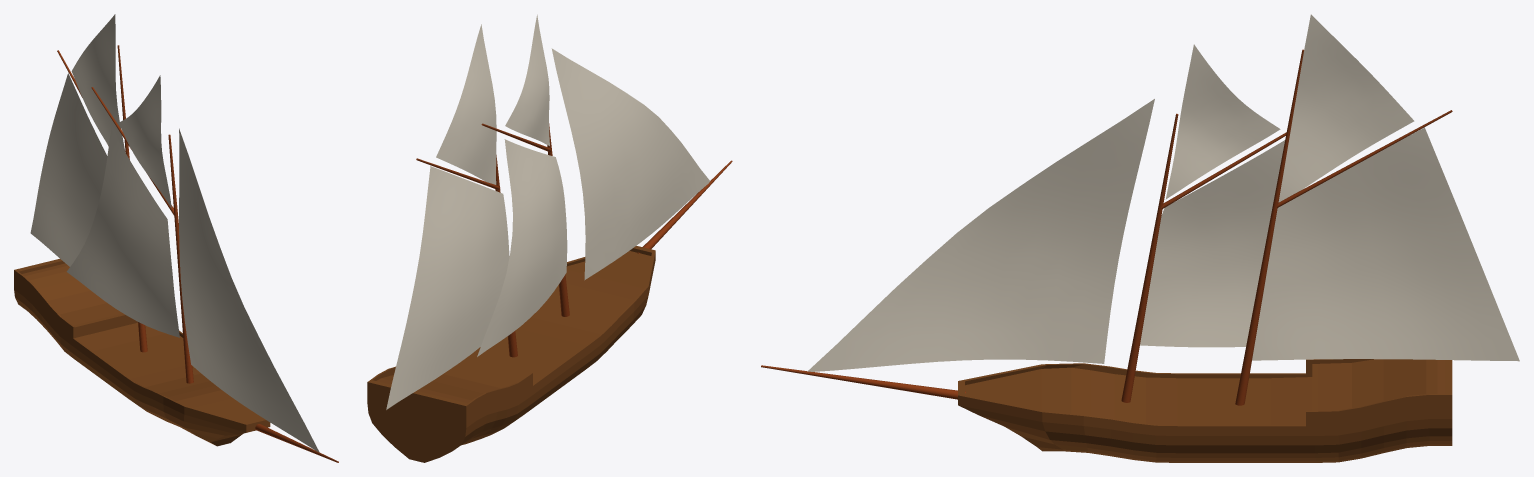
The model's file is Schooner.glb.
The picture shows the model from 3 angles, left to right: view 1: azimuth 30°, elevation 25°; view 2: azimuth 150°, elevation 25°; view 3: azimuth 270°, elevation 25°; orthographic projection. The views are drawn at different scales.
Parts seen in each view (by area): view 1: Sails, ShipBody, Poles; view 2: Sails, ShipBody, Poles; view 3: Sails, ShipBody, Poles.
Part boxes in pixels (x1=…): Sails: x1=30, y1=14, x2=319, y2=452; ShipBody: x1=14, y1=258, x2=270, y2=446; Poles: x1=57, y1=45, x2=338, y2=462; Sails: x1=386, y1=14, x2=710, y2=409; ShipBody: x1=367, y1=246, x2=655, y2=462; Poles: x1=416, y1=123, x2=732, y2=357; Sails: x1=807, y1=14, x2=1519, y2=371; ShipBody: x1=958, y1=359, x2=1452, y2=462; Poles: x1=761, y1=49, x2=1452, y2=405.
Bounding box in the file's own units: 3.18 × 12.46 × 19.27.
